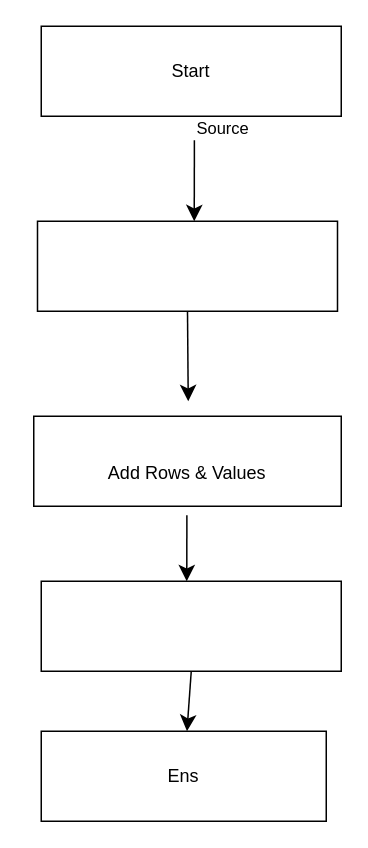
This 368x848 diagram has some shape labels left out. Here are the shapes that lost their labels. From the top down, the centre of each, then its label:
[187,265]: Insert Pivot Table
[190,625]: Summarize Data
